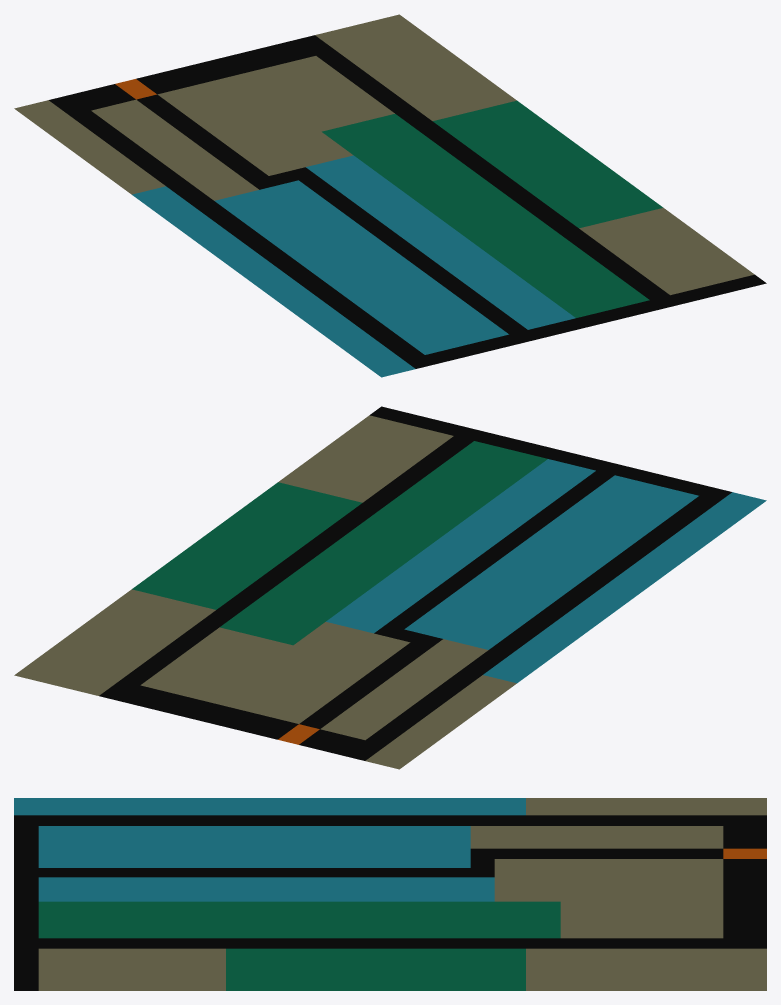
3 views of the same model, one above another, from view 1: azimuth 30°, elevation 25°; view 2: azimuth 150°, elevation 25°; view 3: azimuth 270°, elevation 25° (orthographic). The views are drawn at different scales.
Parts seen in each view (by area): view 1: Ground; view 2: Ground; view 3: Ground.
Boxes of the visible parts, x1,y1,x2,y2 form: Ground: (14,14,766,377); Ground: (14,406,766,769); Ground: (14,798,766,990).
Bounding box in the file's own units: 69.85 × 0 × 115.
